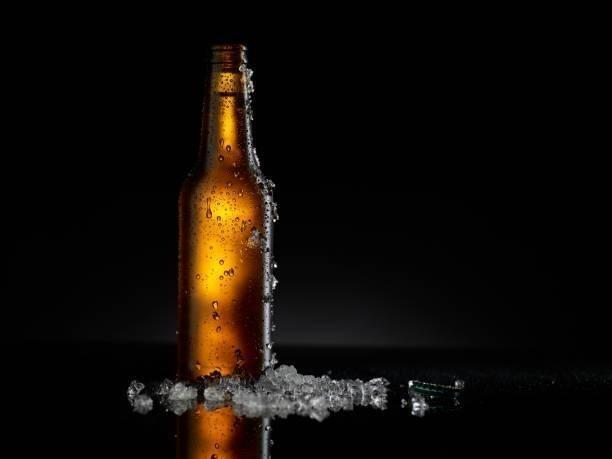bottle-glass: (171, 35, 283, 439)
